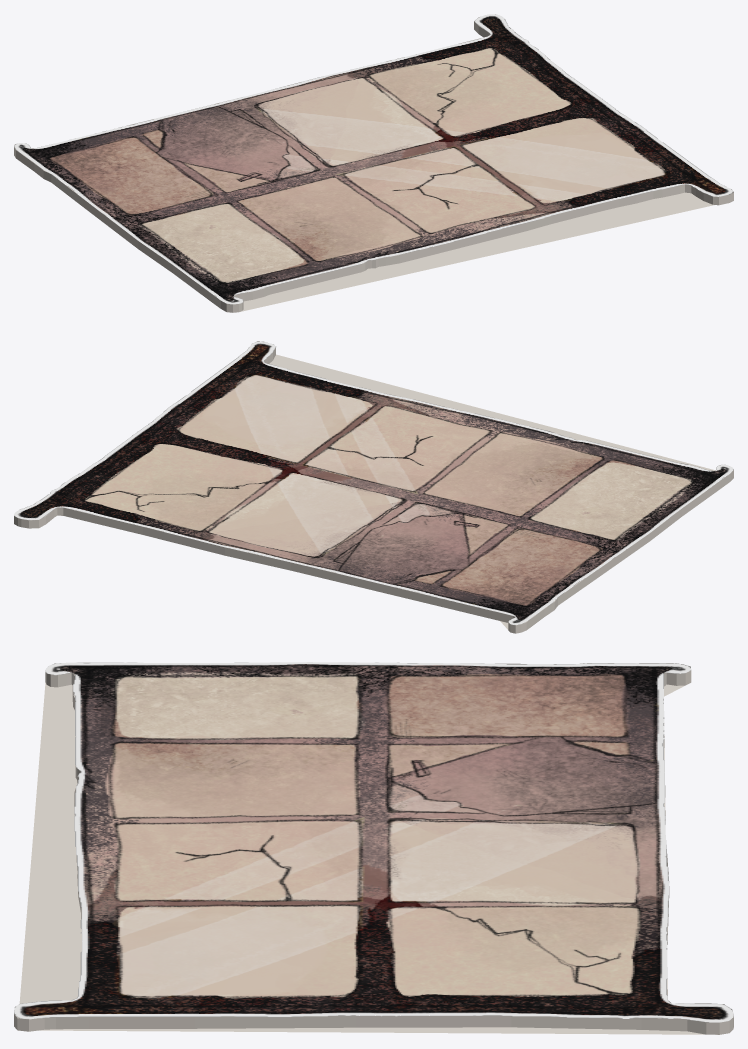
3 renders of one model, top to bottom at view 1: azimuth 30°, elevation 25°; view 2: azimuth 150°, elevation 25°; view 3: azimuth 270°, elevation 25°, orthographic. The views are drawn at different scales.
Visible parts, largest first — view 1: 窗戶.002; view 2: 窗戶.002; view 3: 窗戶.002.
Part boxes in pixels (box(x1,y1,x2,y2)): 窗戶.002: box(14, 14, 733, 312); 窗戶.002: box(14, 341, 733, 633); 窗戶.002: box(14, 662, 733, 1034).
Bounding box in the file's own units: 2261 × 35.92 × 1908.
2 materials, 1 textured.
